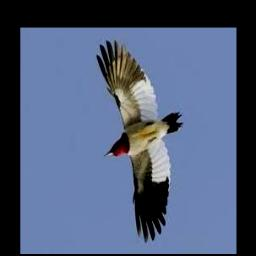Woodpecker: (97, 41, 183, 244)
